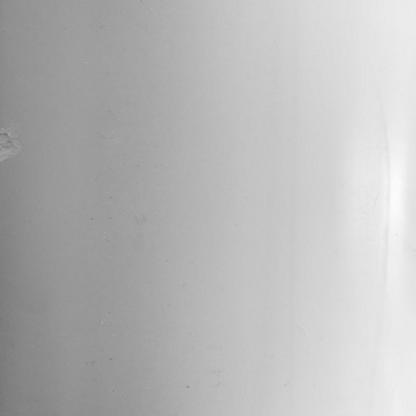sunshang: (1, 124, 23, 167)
